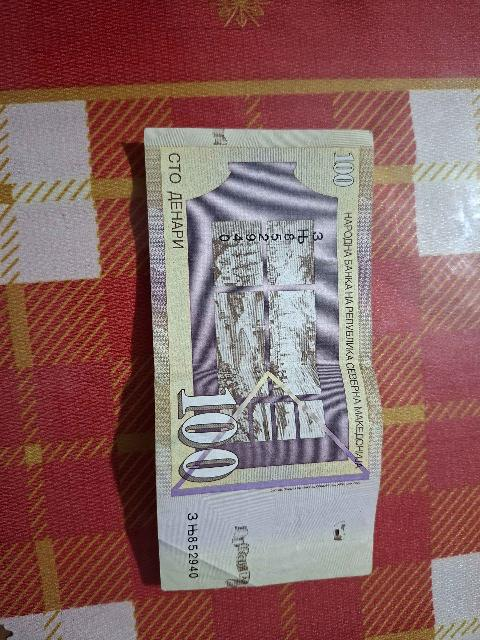100_note: (145, 129, 381, 589)
